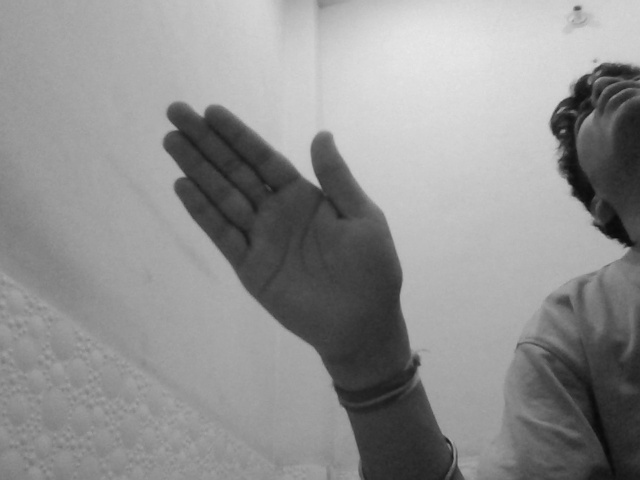Hello: (150, 94, 407, 373)
